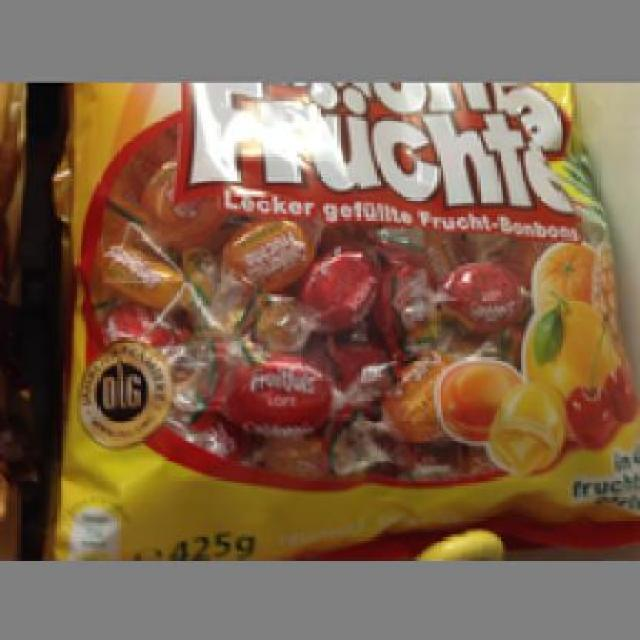Candy: (69, 82, 632, 552)
